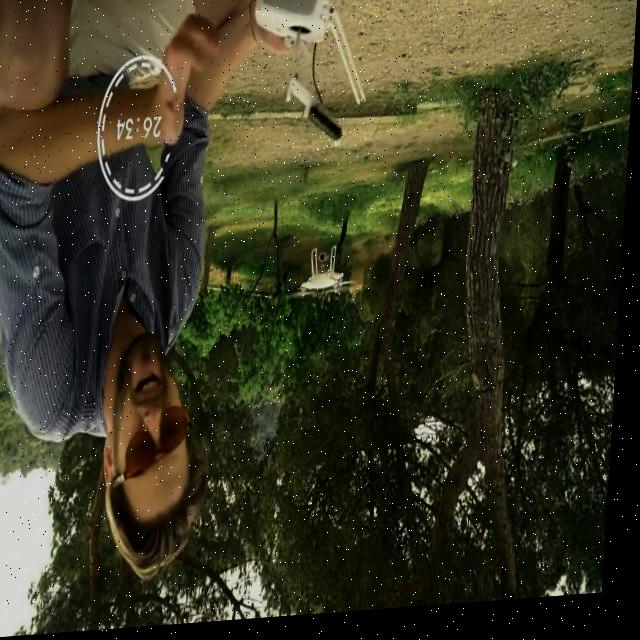drone: (294, 249, 360, 307)
